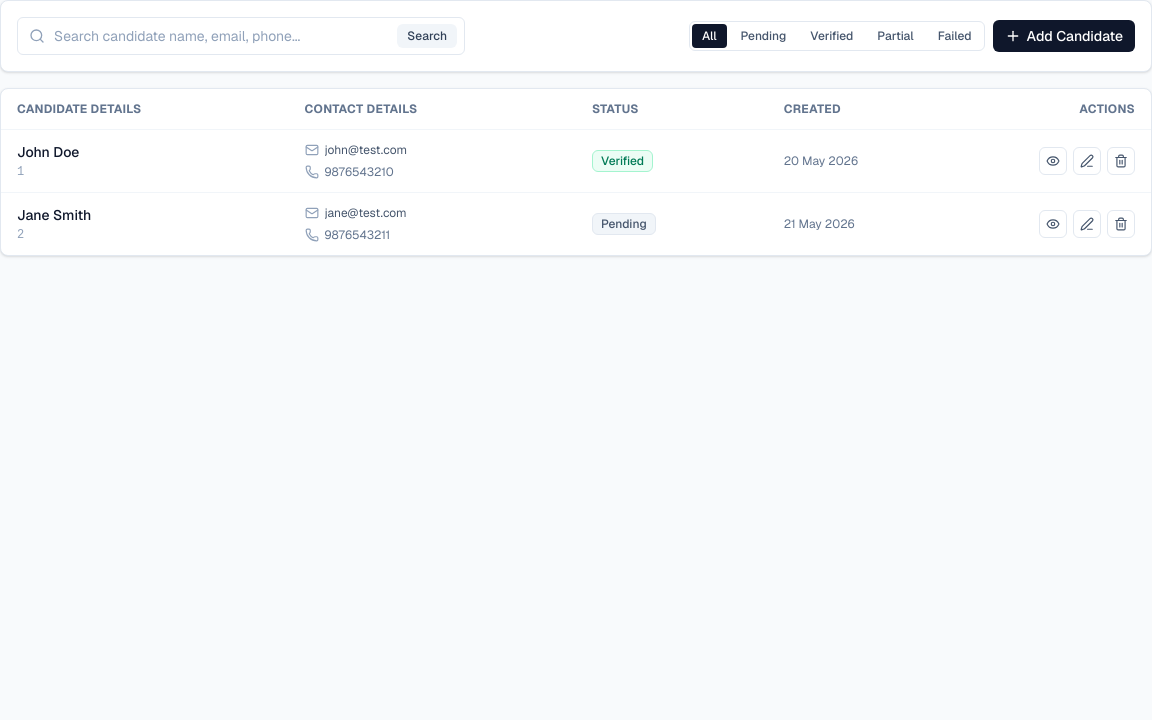
Scenario: CandidateList Component › Add Candidate Modal › should open add candidate modal
Click the button "Add Candidate". click: [1064, 36]
box: [993, 20, 1135, 52]
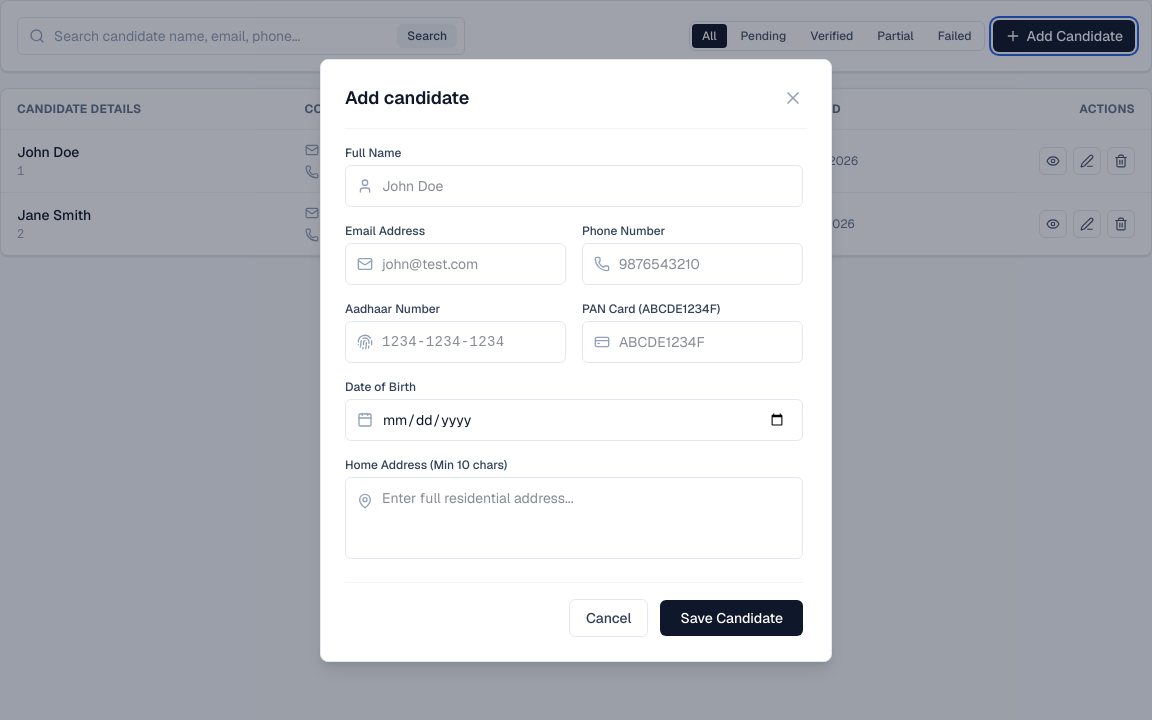
Result: the heading "Add candidate" is shown at [345, 84, 469, 112]
